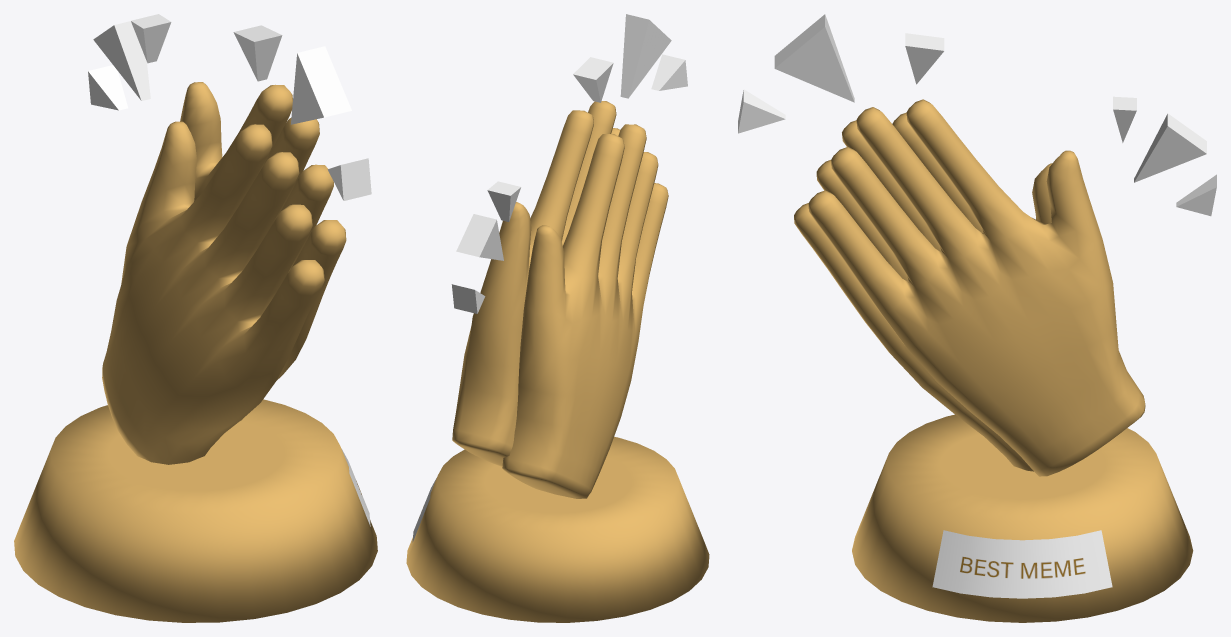
3 renders of one model, left to right at view 1: azimuth 30°, elevation 25°; view 2: azimuth 150°, elevation 25°; view 3: azimuth 270°, elevation 25°, orthographic. The views are drawn at different scales.
Parts seen in each view (by area): view 1: Object_2, Object_3; view 2: Object_2, Object_3; view 3: Object_2, Object_4, Object_3.
Boxes of the visible parts, x1,y1,x2,y2 form: Object_2: (14,82,377,622); Object_3: (88,14,371,200); Object_2: (406,101,709,622); Object_3: (451,14,687,313); Object_2: (794,99,1193,622); Object_4: (932,530,1112,598); Object_3: (738,14,1216,216).
Bounding box in the file's own units: 1.56 × 2.7 × 2.19.
Materials: 3 (1 with a texture image).
